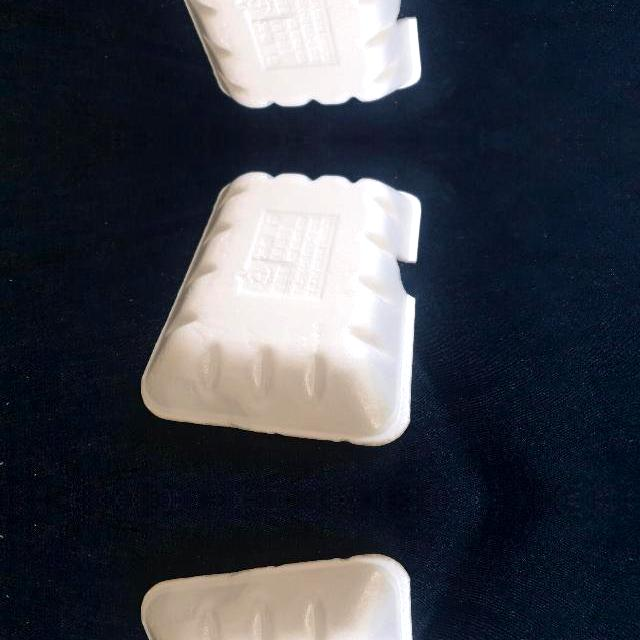Styrofoam: (140, 170, 422, 448), (141, 171, 421, 446), (139, 0, 422, 109), (184, 0, 421, 109), (139, 552, 422, 640), (141, 554, 413, 640)
